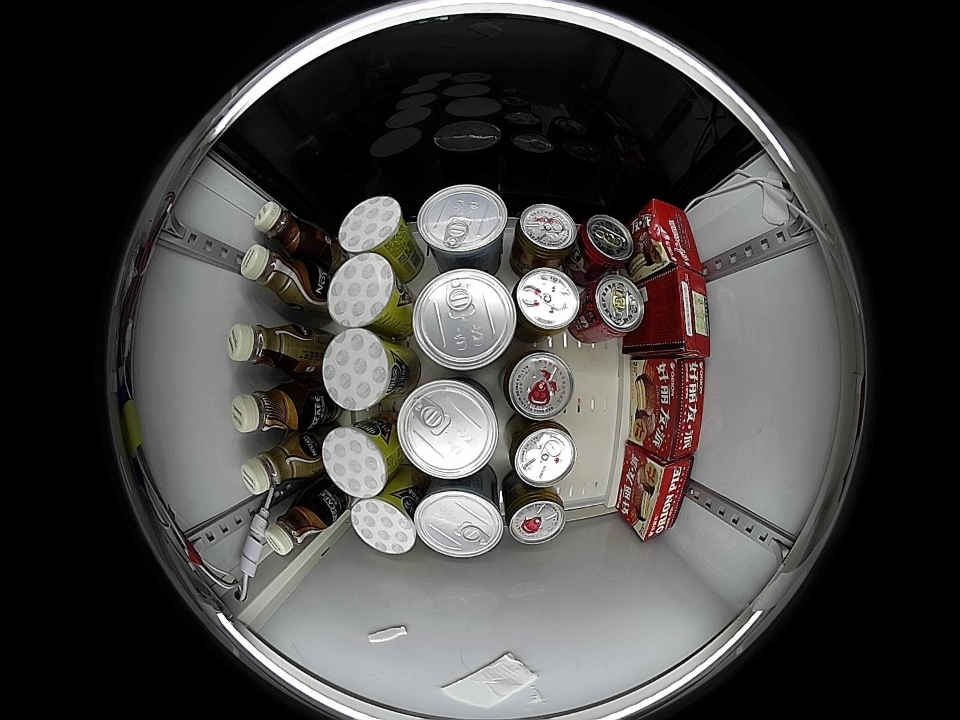haitai: (411, 267, 517, 372), (396, 376, 501, 481), (416, 183, 509, 269), (414, 480, 505, 559)
haoliyou: (642, 356, 705, 460), (630, 454, 695, 542), (648, 267, 710, 357), (637, 198, 703, 277)
hongniu: (502, 350, 575, 420), (504, 489, 567, 546)
hongniu2: (512, 267, 580, 339), (506, 419, 577, 487), (513, 203, 577, 265)
kafei: (240, 433, 320, 497), (239, 244, 317, 309), (226, 321, 316, 375), (264, 491, 334, 556), (230, 382, 307, 435), (254, 201, 323, 259)
kebike: (321, 329, 405, 410), (326, 253, 406, 330), (322, 422, 398, 497), (337, 196, 412, 260), (349, 491, 419, 555)
wangzainiunai: (578, 272, 645, 340), (575, 213, 634, 275)
